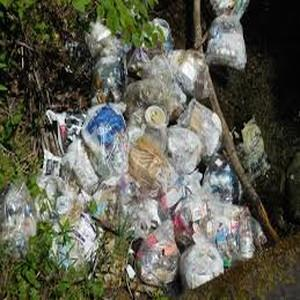Plastic: (237, 216, 254, 262)
